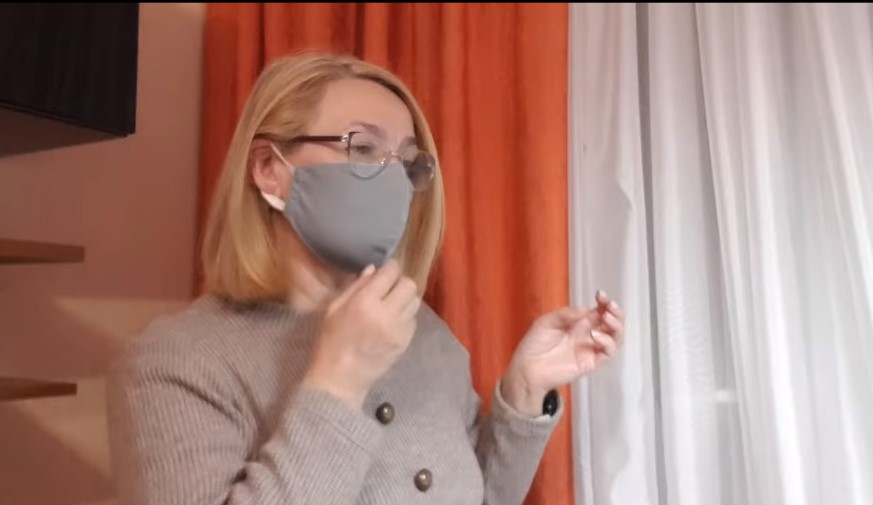face_with_mask: (244, 56, 441, 282)
